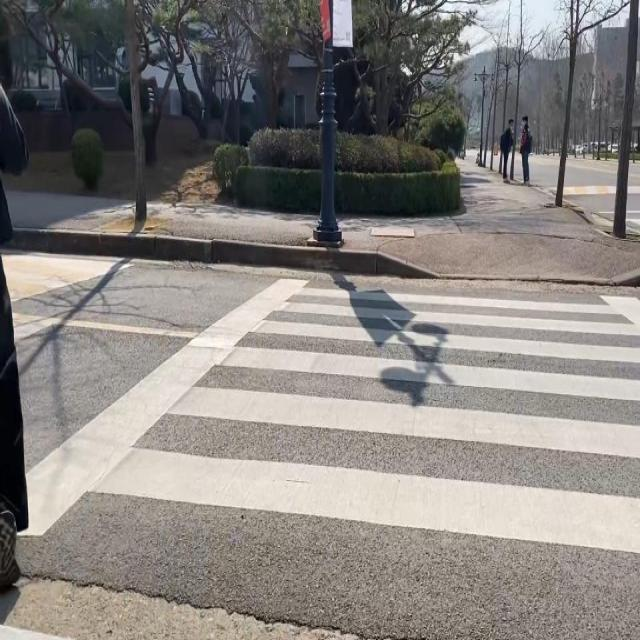sidewalk: (340, 158, 640, 278), (145, 200, 317, 244), (5, 190, 134, 231)
